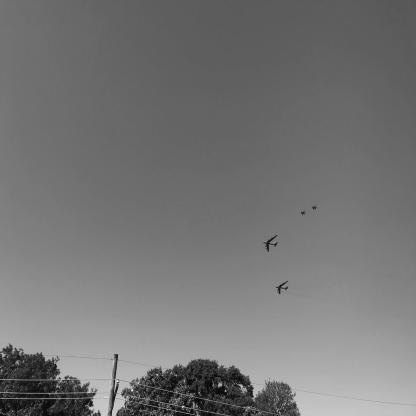B52: (264, 236, 279, 253), (277, 282, 290, 296)
F15: (300, 211, 307, 216), (312, 206, 318, 211)
